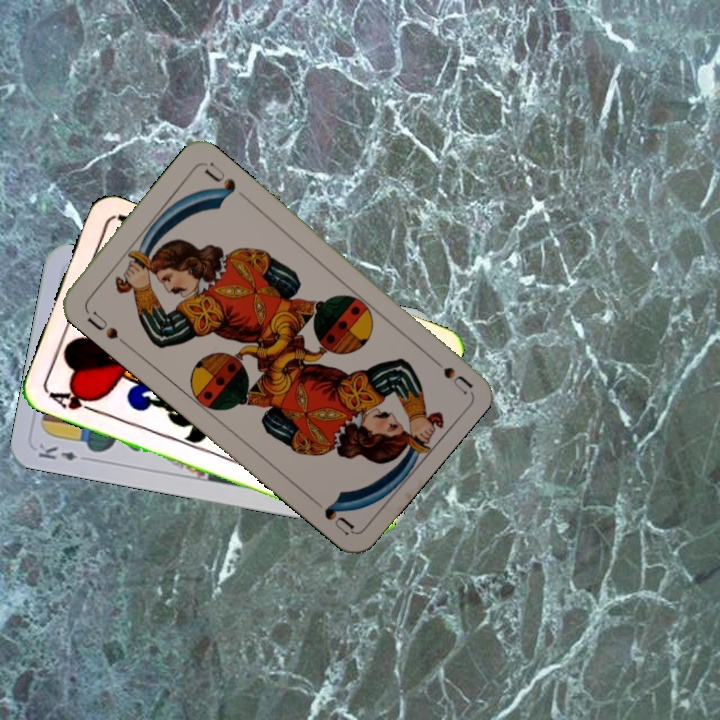EK: (34, 440, 80, 464)
HA: (43, 385, 103, 416)
SU: (422, 349, 474, 396), (82, 307, 129, 348)
